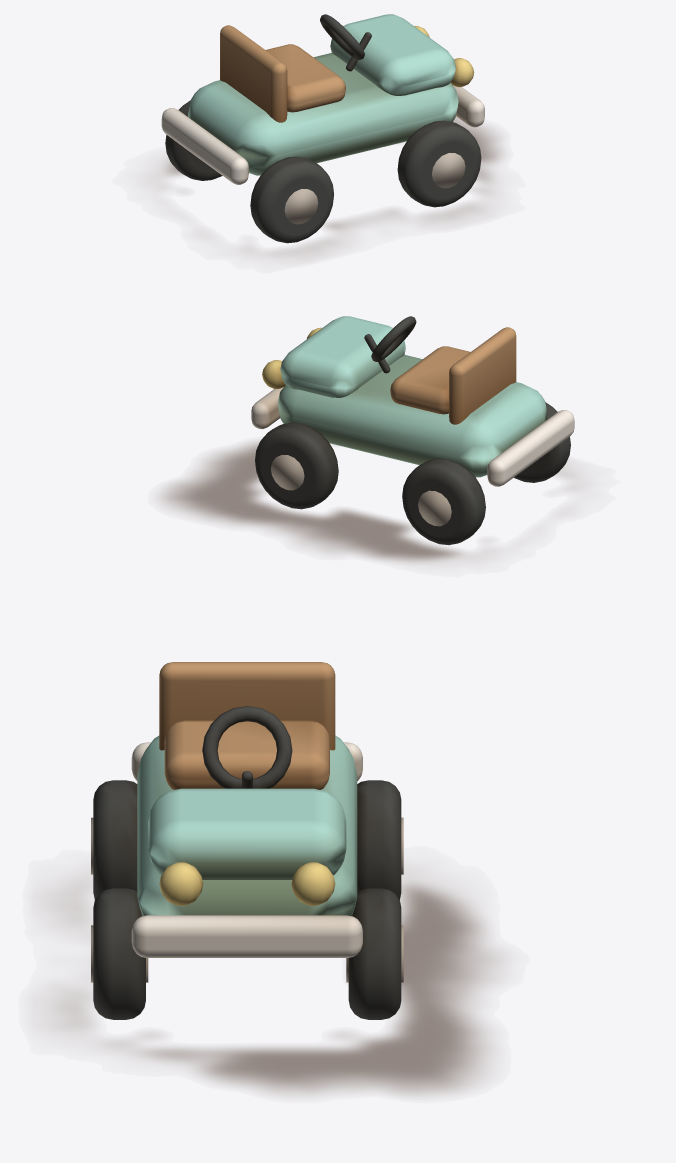
Rendered from kart_mint.glb.
The picture shows the model from 3 angles, top to bottom: view 1: azimuth 30°, elevation 25°; view 2: azimuth 150°, elevation 25°; view 3: azimuth 270°, elevation 25°; orthographic projection. The views are drawn at different scales.
Parts seen in each view (by area): view 1: body, hood, tire1-1, tire-1-1, seatback, seat, bumper_b, baked_shadow, tire-11, hub1-1, hub-1-1, wheel_steer (+2 smaller); view 2: body, baked_shadow, hood, tire-11, tire11, seatback, seat, bumper_b, tire-1-1, hub-11, hub11, wheel_steer (+2 smaller); view 3: baked_shadow, hood, body, seatback, bumper_f, seat, tire11, tire1-1, tire-1-1, tire-11, wheel_steer, lamp-1 (+1 smaller).
Boxes of the visible parts, x1,y1,x2,y2 form: body: [188, 53, 458, 175]; hood: [330, 14, 455, 95]; tire1-1: [397, 120, 481, 207]; tire-1-1: [250, 156, 333, 243]; seatback: [220, 25, 287, 122]; seat: [266, 44, 345, 112]; bumper_b: [161, 108, 248, 184]; baked_shadow: [162, 117, 501, 254]; tire-11: [165, 100, 222, 180]; hub1-1: [432, 153, 465, 188]; hub-1-1: [284, 189, 318, 224]; wheel_steer: [320, 14, 364, 60]; body: [277, 355, 548, 477]; baked_shadow: [162, 442, 568, 562]; hood: [280, 316, 405, 397]; tire-11: [402, 458, 485, 545]; tire11: [255, 422, 338, 509]; seatback: [449, 327, 516, 424]; seat: [390, 346, 470, 414]; bumper_b: [487, 410, 574, 486]; tire-1-1: [514, 402, 570, 482]; hub-11: [418, 490, 451, 526]; hub11: [271, 455, 304, 490]; wheel_steer: [371, 316, 416, 361]; baked_shadow: [55, 881, 496, 1094]; hood: [148, 788, 346, 879]; body: [137, 735, 357, 916]; seatback: [159, 662, 335, 750]; bumper_f: [131, 915, 362, 957]; seat: [164, 720, 329, 789]; tire11: [348, 888, 401, 1019]; tire1-1: [93, 888, 145, 1019]; tire-1-1: [93, 780, 137, 899]; tire-11: [357, 780, 401, 899]; wheel_steer: [202, 706, 292, 788]; lamp-1: [159, 862, 203, 905].
Bounding box in the file's own units: 3.41 × 1.29 × 2.94.
7 materials, 1 textured.
